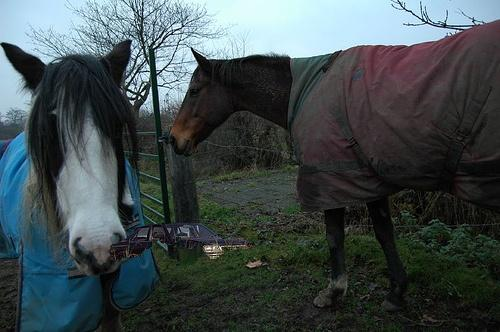tampered: (111, 224, 255, 260)
